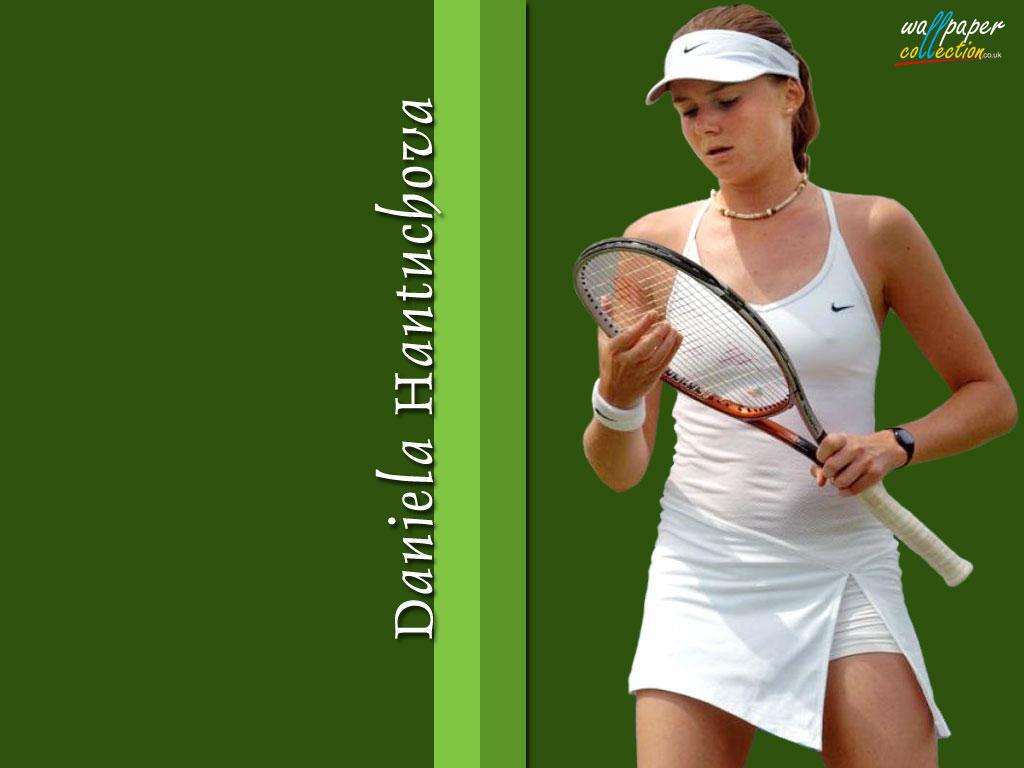face: (673, 71, 787, 185)
